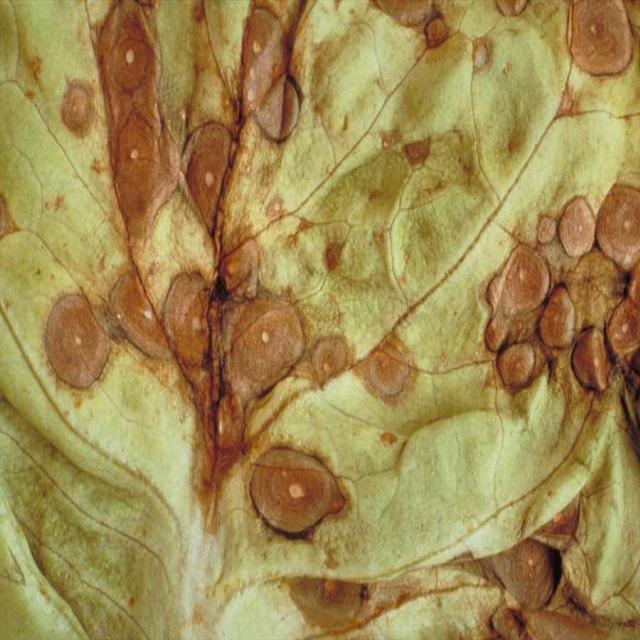Septoria_Blight_on_lettuce: (61, 32, 399, 526)
